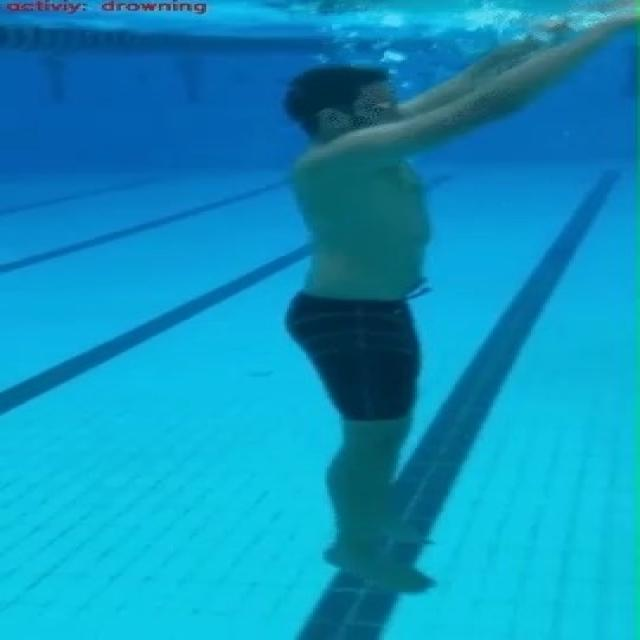Drowning: (277, 11, 640, 593)
